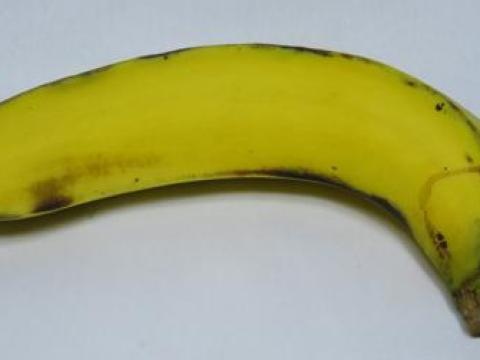freshripe: (0, 26, 479, 355)
